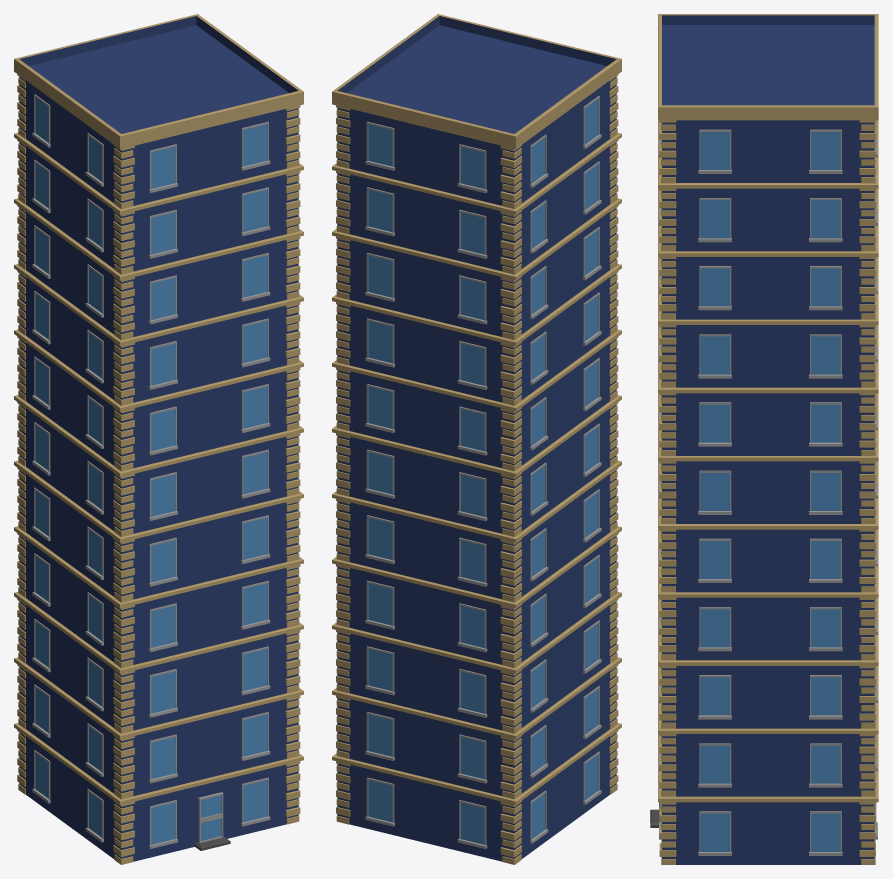
The model's file is GebouwBlauwHoogZonderTrap.fbx.
3 renders of one model, left to right at view 1: azimuth 30°, elevation 25°; view 2: azimuth 150°, elevation 25°; view 3: azimuth 270°, elevation 25°, orthographic. The views are drawn at different scales.
Visible parts, largest first — view 1: gebouwBlauwHoogZonderTrap; view 2: gebouwBlauwHoogZonderTrap; view 3: gebouwBlauwHoogZonderTrap.
Boxes of the visible parts, box(x1,y1,x2,y2) form: gebouwBlauwHoogZonderTrap: box(14, 14, 303, 864); gebouwBlauwHoogZonderTrap: box(332, 14, 621, 864); gebouwBlauwHoogZonderTrap: box(650, 14, 878, 864).
Size of the model in its own units: 622 by 2364 by 644.
